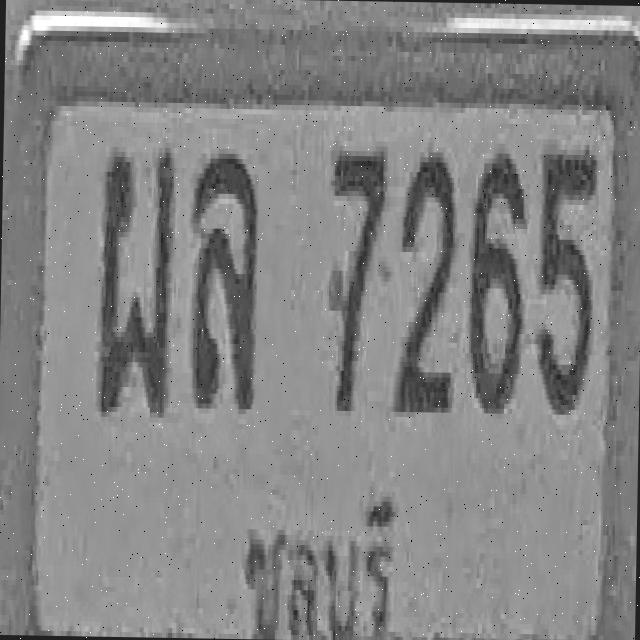2: (394, 149, 456, 415)
37PhorPhueng: (97, 146, 174, 418)
45LorLing: (188, 148, 258, 409)
5: (536, 146, 596, 412)
6: (466, 148, 525, 414)
7: (325, 145, 386, 411)
Chonburi: (232, 482, 403, 640)
